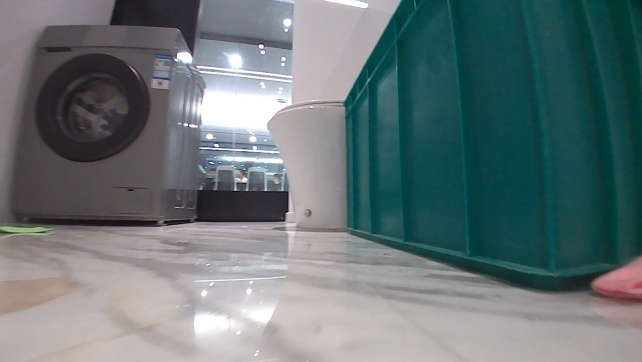toilet: (267, 94, 347, 231)
washing_machine: (7, 20, 206, 222)
